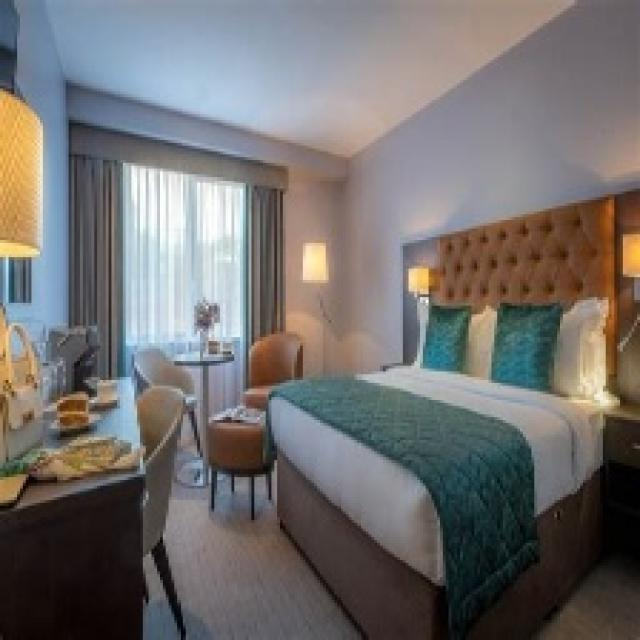Bed: (263, 186, 617, 637)
